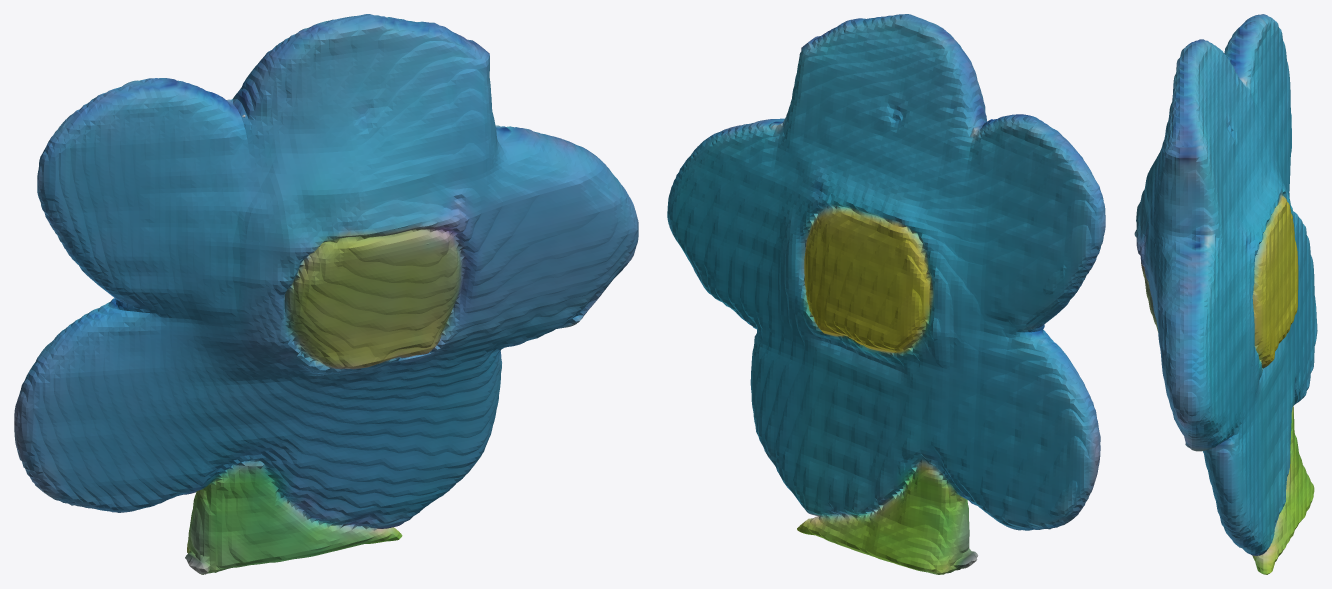
3 renders of one model, left to right at view 1: azimuth 30°, elevation 25°; view 2: azimuth 150°, elevation 25°; view 3: azimuth 270°, elevation 25°, orthographic. The views are drawn at different scales.
Parts seen in each view (by area): view 1: world; view 2: world; view 3: world.
Boxes of the visible parts, <box> form: world: <box>14,14,638,574</box>; world: <box>667,14,1105,574</box>; world: <box>1134,14,1317,574</box>.
Size of the model in its own units: 0.9357 by 0.9257 by 0.3153.
